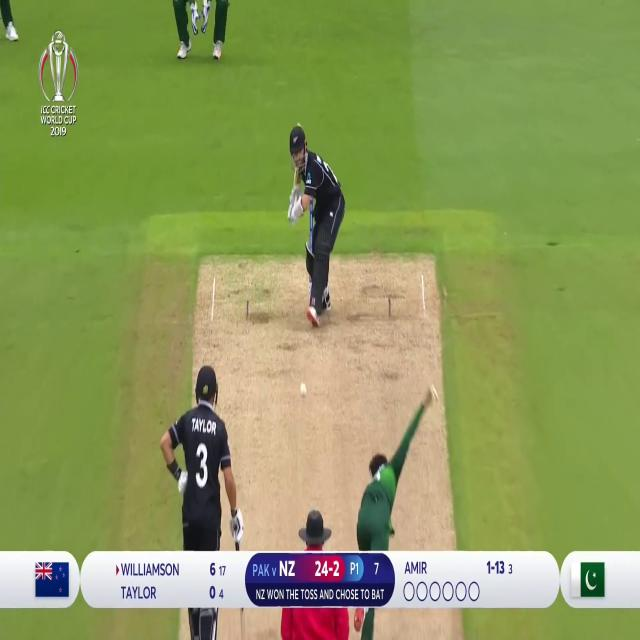bat: (290, 164, 301, 193), (240, 608, 248, 638)
